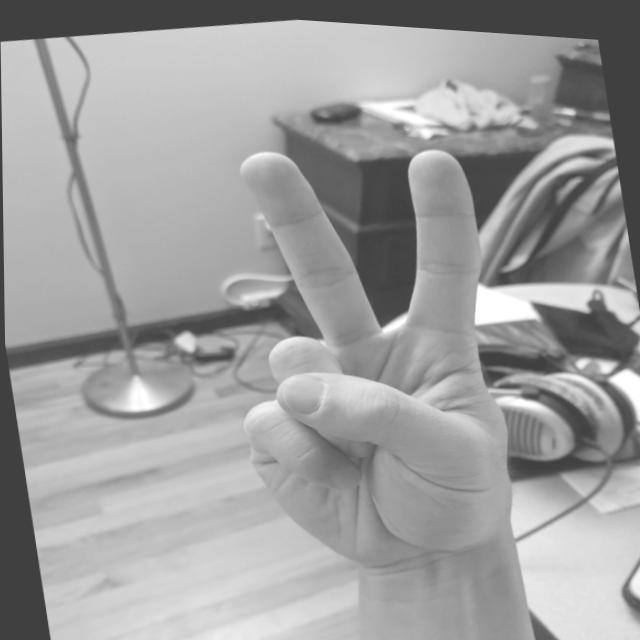V: (190, 109, 542, 595)
